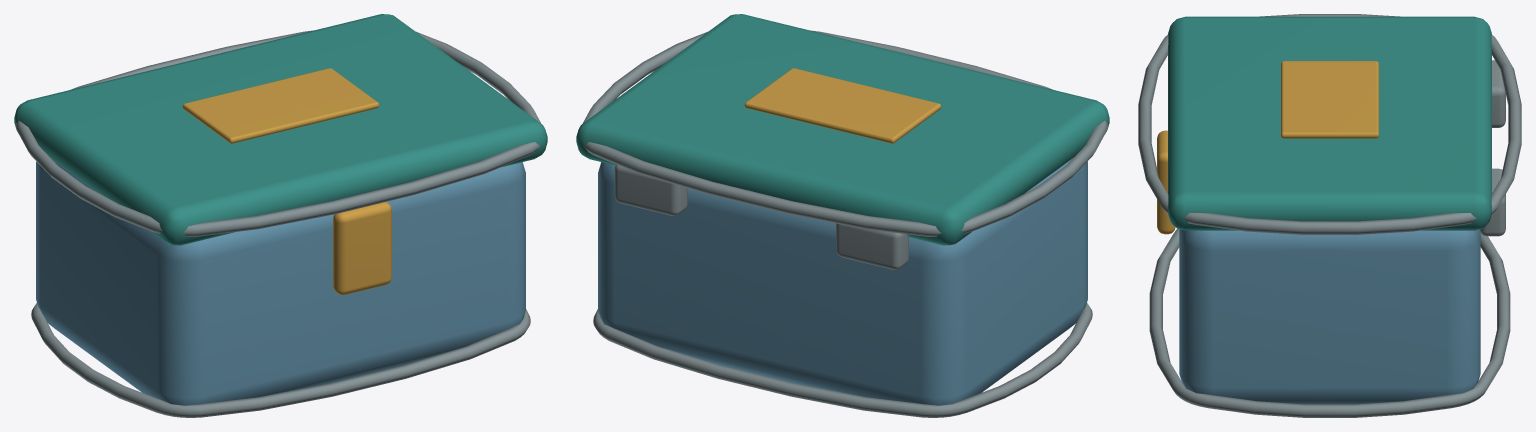
Rendered from tin.glb.
3 views of the same model, side by side, from view 1: azimuth 30°, elevation 25°; view 2: azimuth 150°, elevation 25°; view 3: azimuth 270°, elevation 25° (orthographic).
Parts seen in each view (by area): view 1: Crafted_blue, Crafted_teal, Crafted_metal, Crafted_brass; view 2: Crafted_blue, Crafted_teal, Crafted_metal, Crafted_brass; view 3: Crafted_teal, Crafted_blue, Crafted_metal, Crafted_brass.
Boxes of the visible parts, x1,y1,x2,y2 form: Crafted_blue: (36,158,525,405); Crafted_teal: (14,14,547,245); Crafted_metal: (15,30,540,417); Crafted_brass: (182,68,391,294); Crafted_blue: (598,158,1087,405); Crafted_teal: (576,14,1109,245); Crafted_metal: (583,30,1108,417); Crafted_brass: (744,68,941,143); Crafted_teal: (1168,16,1491,230); Crafted_blue: (1179,229,1480,404); Crafted_metal: (1138,14,1521,417); Crafted_brass: (1157,61,1378,234).
Bounding box in the file's own units: 0.6688 × 0.3405 × 0.5088.
